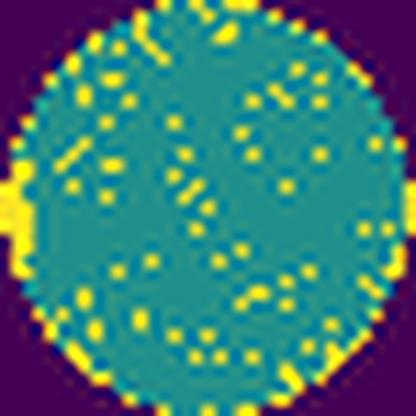Edge-Loc: (0, 149, 39, 282)
